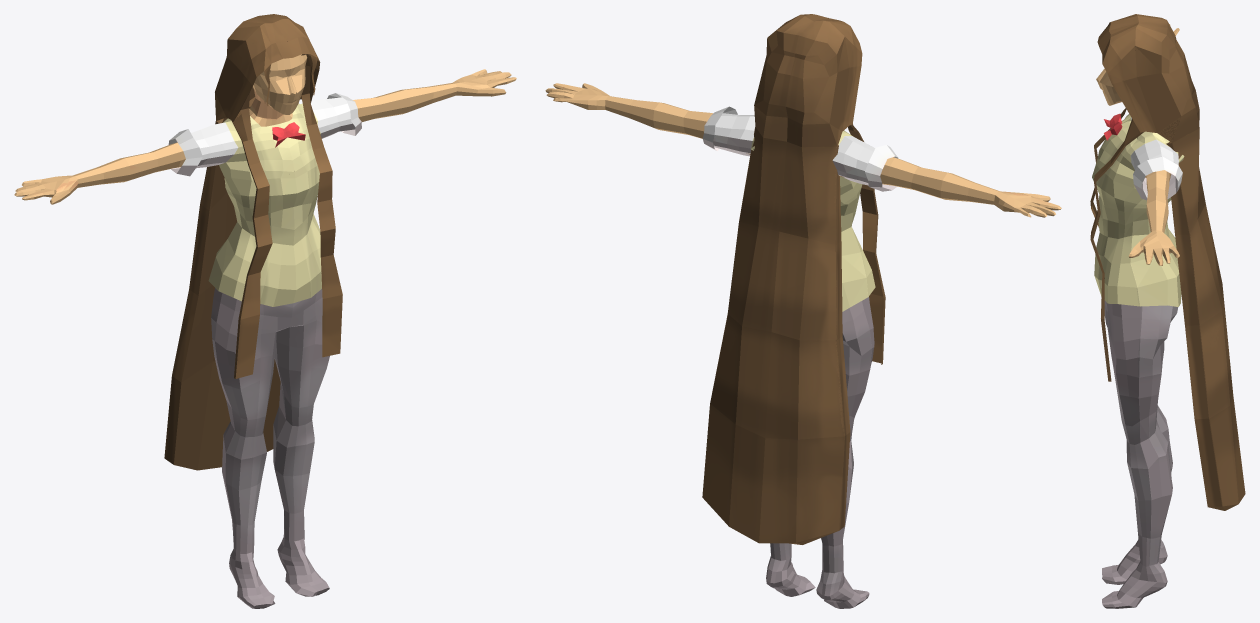
Rendered from MC_School.fbx.
3 views of the same model, side by side, from view 1: azimuth 30°, elevation 25°; view 2: azimuth 150°, elevation 25°; view 3: azimuth 270°, elevation 25° (orthographic). The views are drawn at different scales.
Parts seen in each view (by area): view 1: Haare, Hose, tanktop, Body; view 2: Haare, Body, tanktop, Hose; view 3: Haare, Hose, tanktop, Body.
Part boxes in pixels (<box>): Haare: <box>164,14,342,470</box>; Hose: <box>211,288,329,608</box>; tanktop: <box>168,93,361,306</box>; Body: <box>14,54,516,204</box>; Haare: <box>702,14,885,544</box>; Body: <box>545,83,1061,217</box>; tanktop: <box>702,106,898,311</box>; Hose: <box>766,297,874,608</box>; Haare: <box>1090,14,1245,510</box>; Hose: <box>1101,296,1178,608</box>; tanktop: <box>1092,113,1184,306</box>; Body: <box>1096,24,1179,265</box>.
Bounding box in the file's own units: 310 × 340 × 83.54.
Materials: 4 (4 with a texture image).
